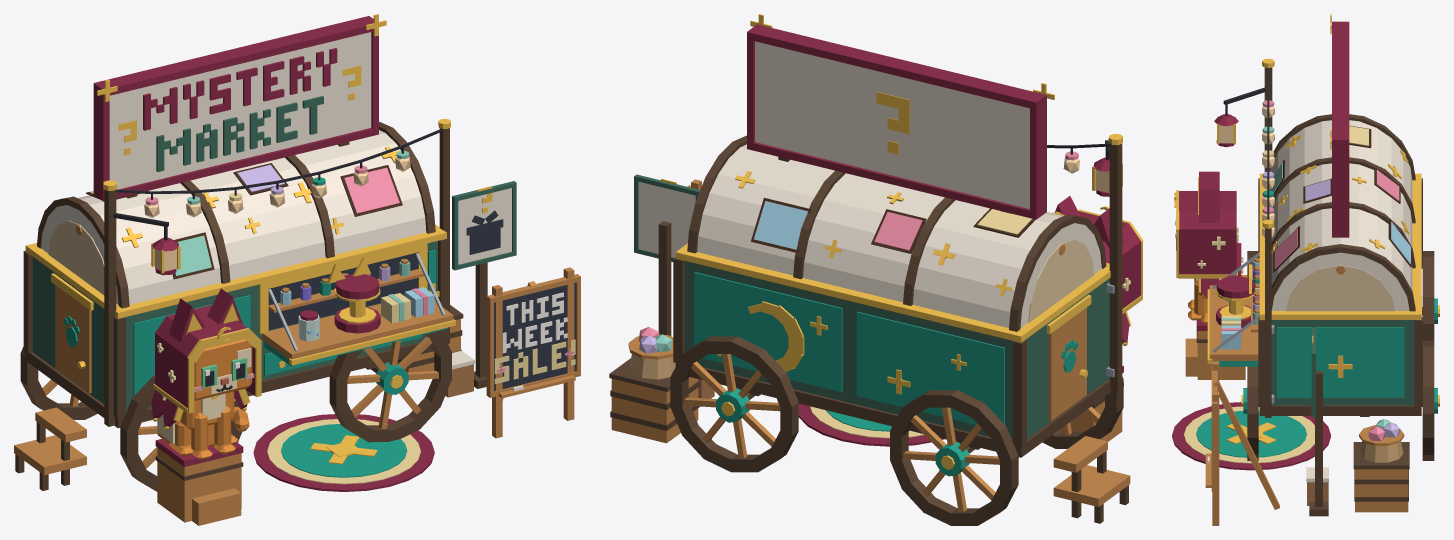
Rendered from CatCafe_Square_MysteryCart.glb.
The picture shows the model from 3 angles, left to right: view 1: azimuth 30°, elevation 25°; view 2: azimuth 150°, elevation 25°; view 3: azimuth 270°, elevation 25°; orthographic projection. The views are drawn at different scales.
Visible parts, largest first — view 1: CatCafe_Square_MysteryCart, CatCafe_Square_MysteryCart_Rug_Decor, CatCafe_Square_MysteryCart_Cat_Prop, CatCafe_Square_MysteryCart_Cat_Head, CatCafe_Square_MysteryCart_Cat_Body, CatCafe_Square_MysteryCart_Bulb, CatCafe_Square_MysteryCart_Lights_Decor, CatCafe_Square_MysteryCart_Cat_Cloak, CatCafe_Square_MysteryCart_Cat_LegF2, CatCafe_Square_MysteryCart_Cat_LegF1; view 2: CatCafe_Square_MysteryCart, CatCafe_Square_MysteryCart_Cat_Prop, CatCafe_Square_MysteryCart_Rug_Decor; view 3: CatCafe_Square_MysteryCart, CatCafe_Square_MysteryCart_Rug_Decor, CatCafe_Square_MysteryCart_Cat_Prop, CatCafe_Square_MysteryCart_Bulb, CatCafe_Square_MysteryCart_Lights_Decor, CatCafe_Square_MysteryCart_Cat_Cloak, CatCafe_Square_MysteryCart_Cat_LegF1.
Boxes of the visible parts, x1,y1,x2,y2 form: CatCafe_Square_MysteryCart: [14, 14, 580, 525]; CatCafe_Square_MysteryCart_Rug_Decor: [253, 414, 434, 491]; CatCafe_Square_MysteryCart_Cat_Prop: [153, 288, 261, 413]; CatCafe_Square_MysteryCart_Cat_Head: [194, 339, 254, 400]; CatCafe_Square_MysteryCart_Cat_Body: [157, 391, 237, 456]; CatCafe_Square_MysteryCart_Bulb: [144, 157, 410, 271]; CatCafe_Square_MysteryCart_Lights_Decor: [116, 129, 441, 199]; CatCafe_Square_MysteryCart_Cat_Cloak: [151, 389, 250, 429]; CatCafe_Square_MysteryCart_Cat_LegF2: [191, 412, 212, 460]; CatCafe_Square_MysteryCart_Cat_LegF1: [213, 406, 235, 454]; CatCafe_Square_MysteryCart: [609, 14, 1130, 525]; CatCafe_Square_MysteryCart_Cat_Prop: [1055, 196, 1143, 314]; CatCafe_Square_MysteryCart_Rug_Decor: [798, 403, 944, 446]; CatCafe_Square_MysteryCart: [1185, 14, 1439, 525]; CatCafe_Square_MysteryCart_Rug_Decor: [1172, 402, 1330, 470]; CatCafe_Square_MysteryCart_Cat_Prop: [1174, 171, 1238, 278]; CatCafe_Square_MysteryCart_Bulb: [1219, 106, 1274, 237]; CatCafe_Square_MysteryCart_Lights_Decor: [1267, 69, 1269, 219]; CatCafe_Square_MysteryCart_Cat_Cloak: [1199, 243, 1243, 298]; CatCafe_Square_MysteryCart_Cat_LegF1: [1188, 279, 1207, 320].
Size of the model in its own units: 10.06 by 7.78 by 5.56.
Materials: 1 (1 with a texture image).
